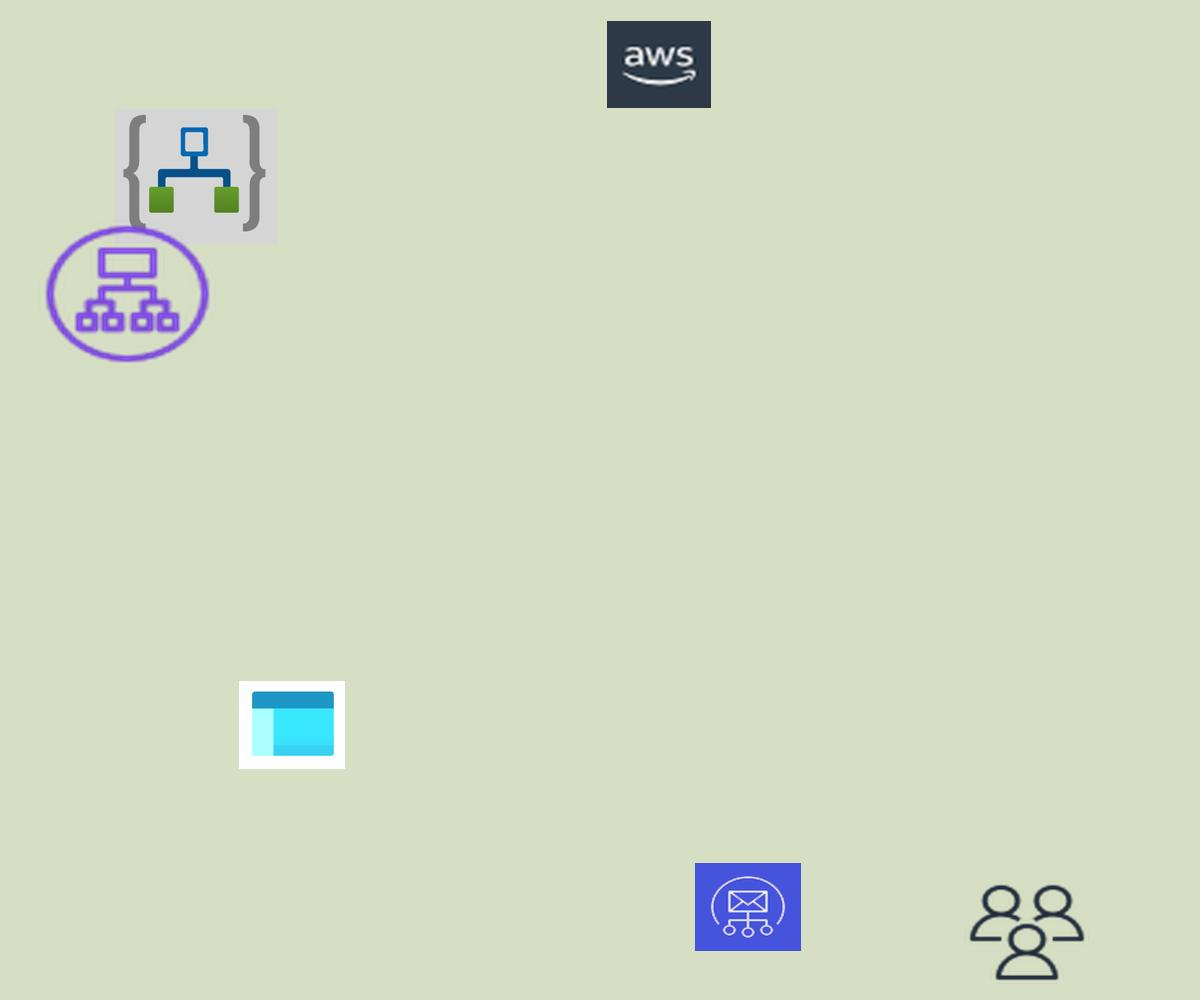AWS-Cloud-logo: (607, 21, 711, 108)
AWS-Res_Elastic-Load-Balancing_Application-Load-Balancer: (39, 220, 216, 368)
AWS-Res_Users: (965, 881, 1089, 984)
AWS-Simple-Email-Service: (695, 863, 801, 951)
Azure_integration-204-Logic-Apps: (115, 109, 277, 244)
Azure_management-portal: (239, 681, 345, 769)
